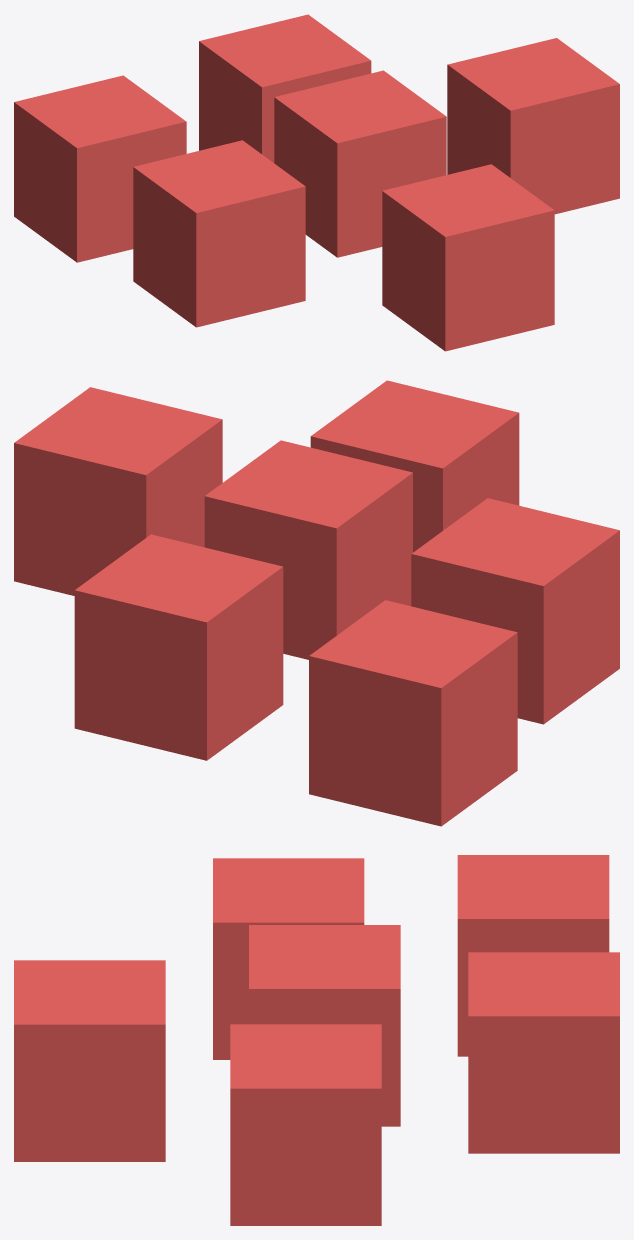
The model's file is modelo.glb.
The picture shows the model from 3 angles, top to bottom: view 1: azimuth 30°, elevation 25°; view 2: azimuth 150°, elevation 25°; view 3: azimuth 270°, elevation 25°; orthographic projection. The views are drawn at different scales.
Visible parts, largest first — view 1: Cube.001, Cube.003, Cube.004, Cube.005, Cube, Cube.002; view 2: Cube.002, Cube.005, Cube.004, Cube.003, Cube, Cube.001; view 3: Cube.001, Cube.002, Cube.004, Cube, Cube.005, Cube.003.
Boxes of the visible parts, x1,y1,x2,y2 form: Cube.001: (382,164,554,351); Cube.003: (133,140,305,327); Cube.004: (447,38,619,214); Cube.005: (14,75,186,262); Cube: (274,70,446,257); Cube.002: (199,14,371,162); Cube.002: (74,534,283,760); Cube.005: (309,600,517,826); Cube.004: (14,387,222,595); Cube.003: (411,498,619,724); Cube: (204,440,412,659); Cube.001: (310,380,519,552); Cube.001: (14,960,165,1161); Cube.002: (468,952,619,1153); Cube.004: (230,1024,381,1225); Cube: (249,925,400,1126); Cube.005: (457,855,609,1056); Cube.003: (213,858,364,1059).
Size of the model in its own units: 8.2 by 2.46 by 7.99.
